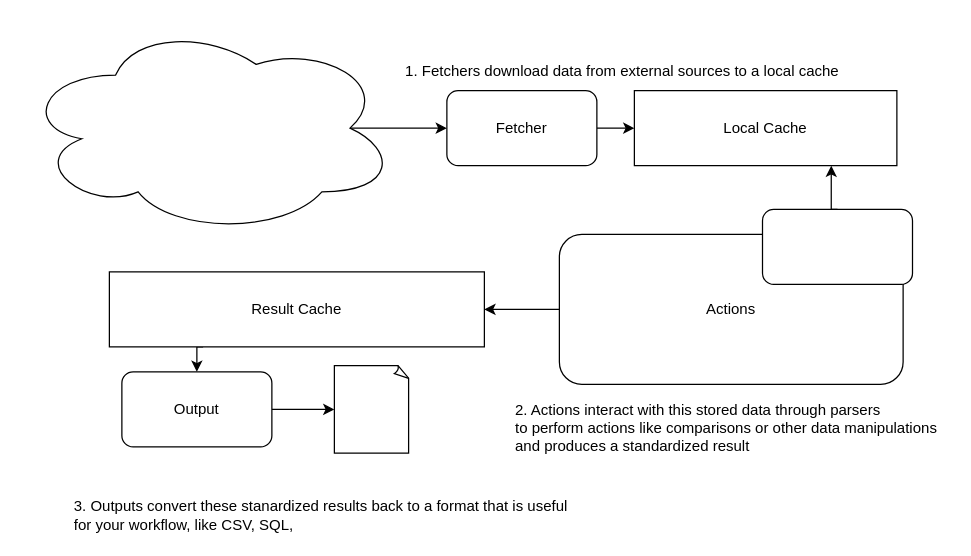
The diagram is 971 pixels wide and 556 high, and some of its shapes have lost their labels. The shapes that lost their labels are listed below. From the top down, each one's box as (x1, y1, x2, y2) in pixels, then its label:
(21, 21, 397, 234): Sources these can be API's or any other internet-accessible data
(761, 208, 912, 284): Parsers
